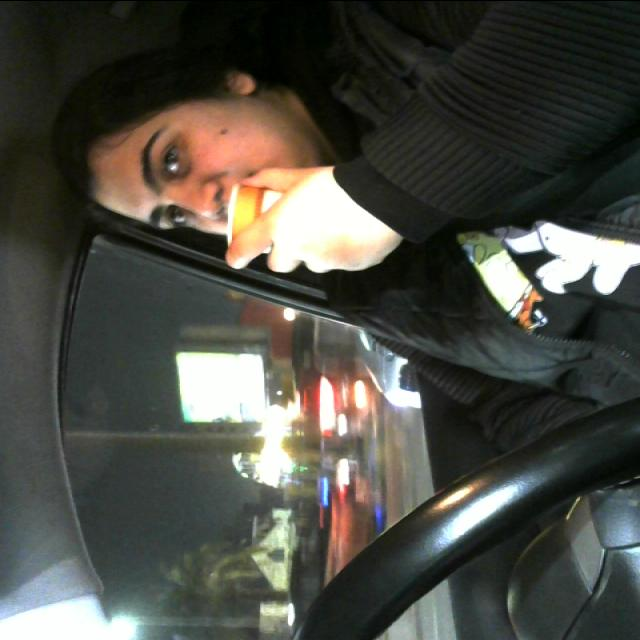drinking: (222, 173, 371, 265)
